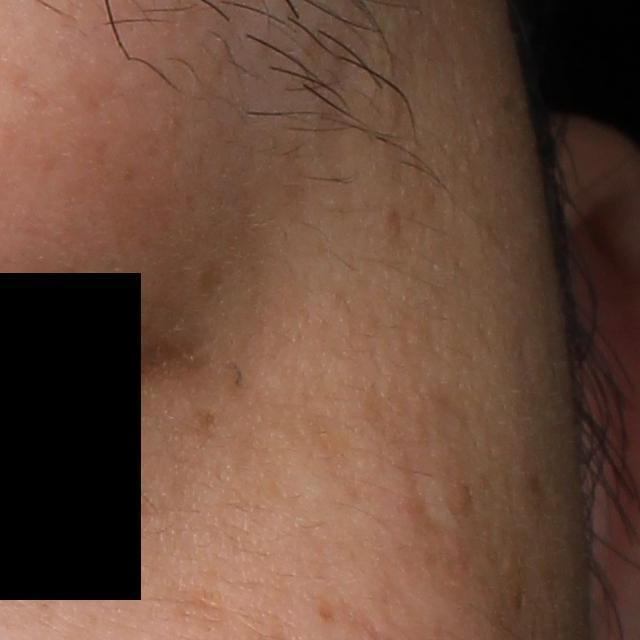melasma: (356, 383, 454, 584), (291, 383, 368, 511), (159, 583, 237, 633), (185, 253, 229, 303), (184, 409, 221, 449)
